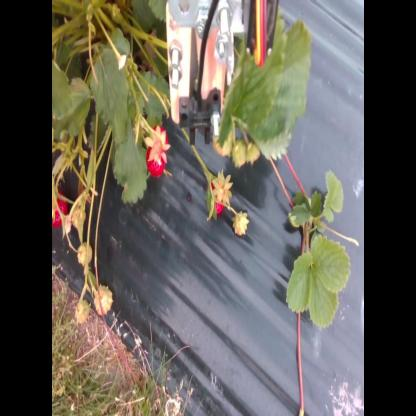ripe: (146, 124, 168, 178), (207, 172, 228, 216), (51, 191, 68, 232)
unripe: (212, 119, 234, 158), (91, 285, 114, 317), (232, 211, 252, 239), (233, 141, 247, 171), (74, 299, 89, 326), (78, 240, 92, 266), (246, 144, 262, 166)
